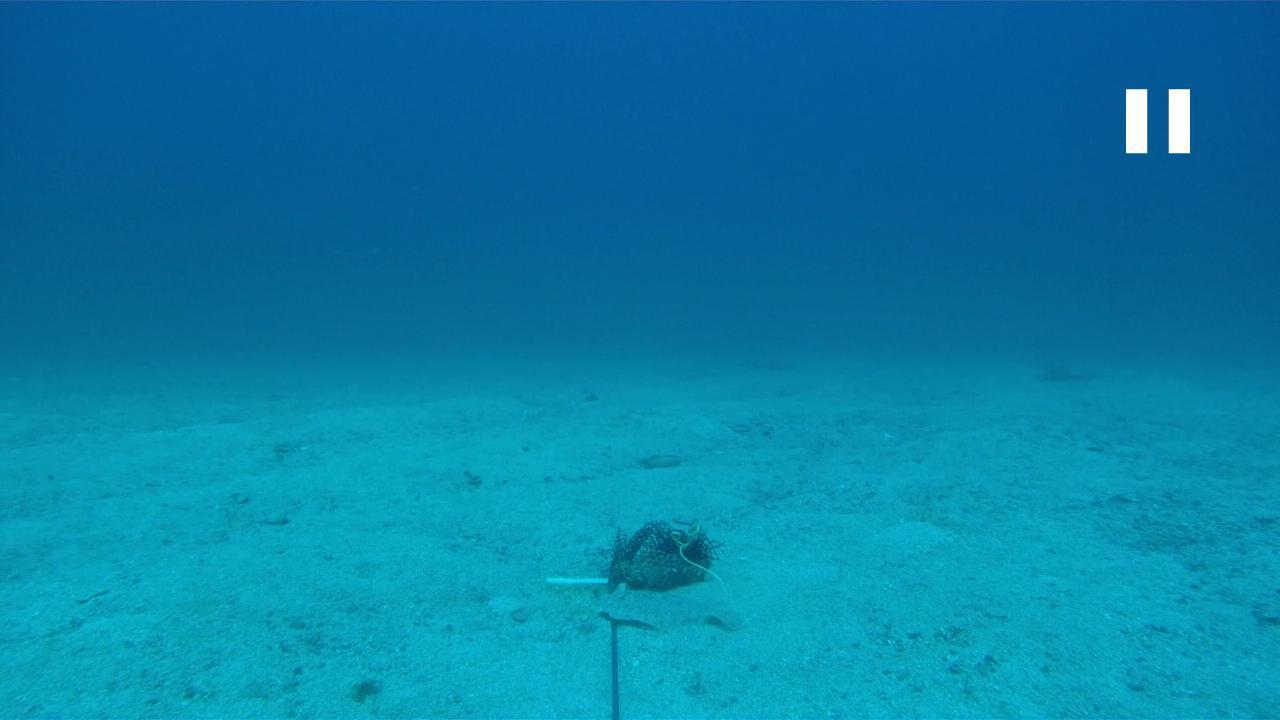bothus: (593, 582, 746, 635)
